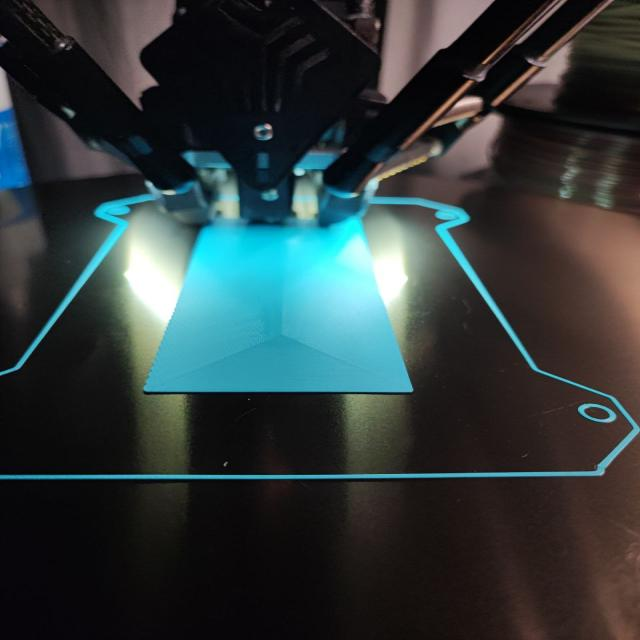Without deffect: (1, 134, 640, 518)
